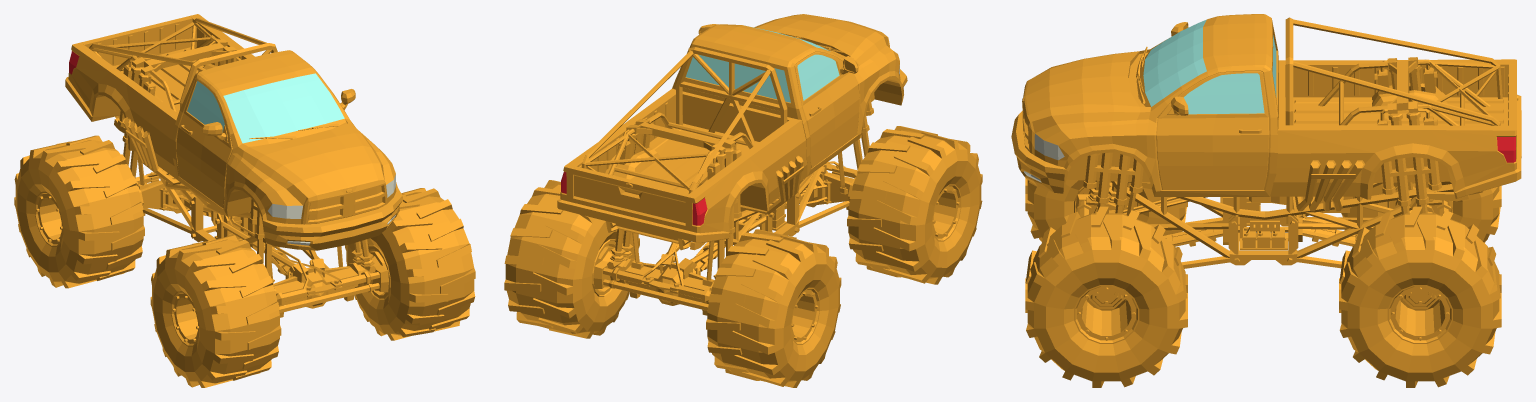
The model's file is SM_Car_MonsterTruck_Modern.fbx.
3 renders of one model, left to right at view 1: azimuth 30°, elevation 25°; view 2: azimuth 150°, elevation 25°; view 3: azimuth 270°, elevation 25°, orthographic. The views are drawn at different scales.
Visible parts, largest first — view 1: SM_Car_MonsterTruck_Modern_Base, SM_Car_MonsterTruck_Modern_Wheel_RB, SM_Car_MonsterTruck_Modern_Wheel_RF, SM_Car_MonsterTruck_Modern_Wheel_LF, SM_Car_MonsterTruck_Modern_Door_R, SM_Car_MonsterTruck_Modern_Trunk; view 2: SM_Car_MonsterTruck_Modern_Base, SM_Car_MonsterTruck_Modern_Wheel_RF, SM_Car_MonsterTruck_Modern_Wheel_RB, SM_Car_MonsterTruck_Modern_Wheel_LB, SM_Car_MonsterTruck_Modern_Door_R, SM_Car_MonsterTruck_Modern_Trunk; view 3: SM_Car_MonsterTruck_Modern_Base, SM_Car_MonsterTruck_Modern_Wheel_LF, SM_Car_MonsterTruck_Modern_Wheel_LB, SM_Car_MonsterTruck_Modern_Door_L, SM_Car_MonsterTruck_Modern_Wheel_RF, SM_Car_MonsterTruck_Modern_Wheel_RB, SM_Car_MonsterTruck_Modern_Trunk.
Boxes of the visible parts, x1,y1,x2,y2 form: SM_Car_MonsterTruck_Modern_Base: [65, 14, 402, 317]; SM_Car_MonsterTruck_Modern_Wheel_RB: [14, 135, 144, 288]; SM_Car_MonsterTruck_Modern_Wheel_RF: [150, 235, 281, 387]; SM_Car_MonsterTruck_Modern_Wheel_LF: [345, 188, 475, 340]; SM_Car_MonsterTruck_Modern_Door_R: [176, 78, 232, 208]; SM_Car_MonsterTruck_Modern_Trunk: [81, 16, 192, 65]; SM_Car_MonsterTruck_Modern_Base: [557, 14, 907, 315]; SM_Car_MonsterTruck_Modern_Wheel_RF: [847, 126, 982, 284]; SM_Car_MonsterTruck_Modern_Wheel_RB: [706, 229, 841, 387]; SM_Car_MonsterTruck_Modern_Wheel_LB: [504, 180, 639, 338]; SM_Car_MonsterTruck_Modern_Door_R: [794, 52, 859, 168]; SM_Car_MonsterTruck_Modern_Trunk: [573, 166, 688, 225]; SM_Car_MonsterTruck_Modern_Base: [1011, 14, 1521, 268]; SM_Car_MonsterTruck_Modern_Wheel_LF: [1025, 206, 1187, 387]; SM_Car_MonsterTruck_Modern_Wheel_LB: [1339, 206, 1501, 387]; SM_Car_MonsterTruck_Modern_Door_L: [1156, 71, 1269, 190]; SM_Car_MonsterTruck_Modern_Wheel_RF: [1025, 178, 1187, 241]; SM_Car_MonsterTruck_Modern_Wheel_RB: [1341, 181, 1501, 242]; SM_Car_MonsterTruck_Modern_Trunk: [1508, 64, 1518, 125].
Size of the model in its own units: 3.99 by 3.47 by 5.75.
